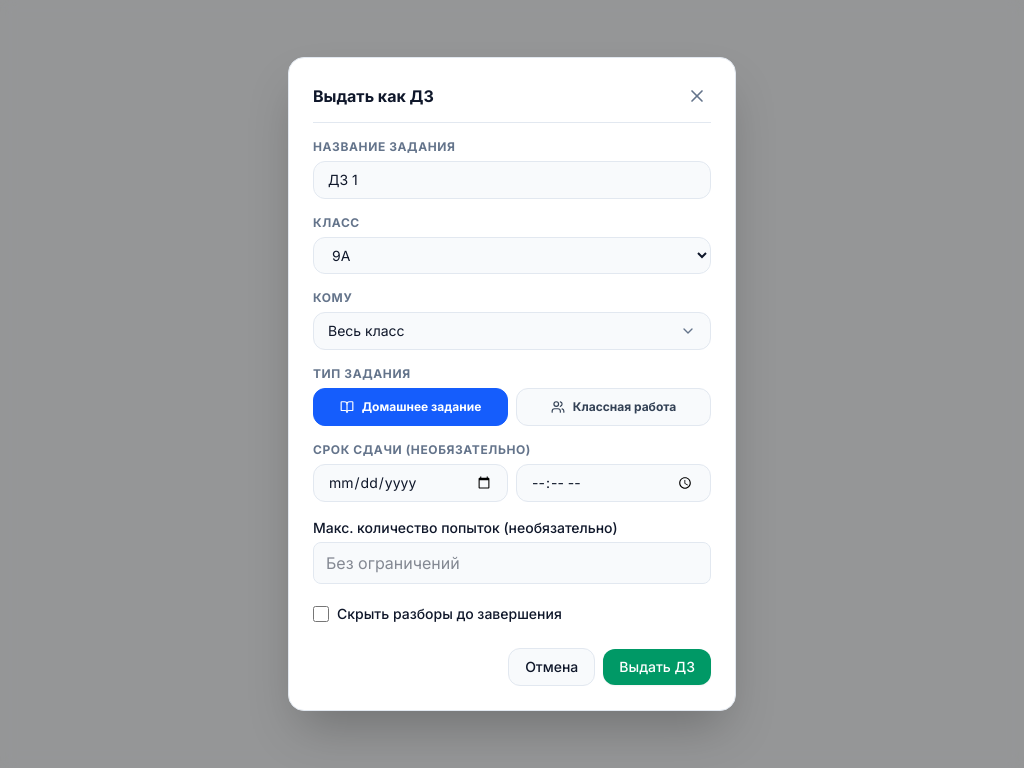
Test: AssignmentCreateModal — выбор получателей («Кому») › поиск фильтрует список по фамилии и имени
Click the button "Весь класс": (366, 330) top-left (313, 312), bottom-right (711, 350)
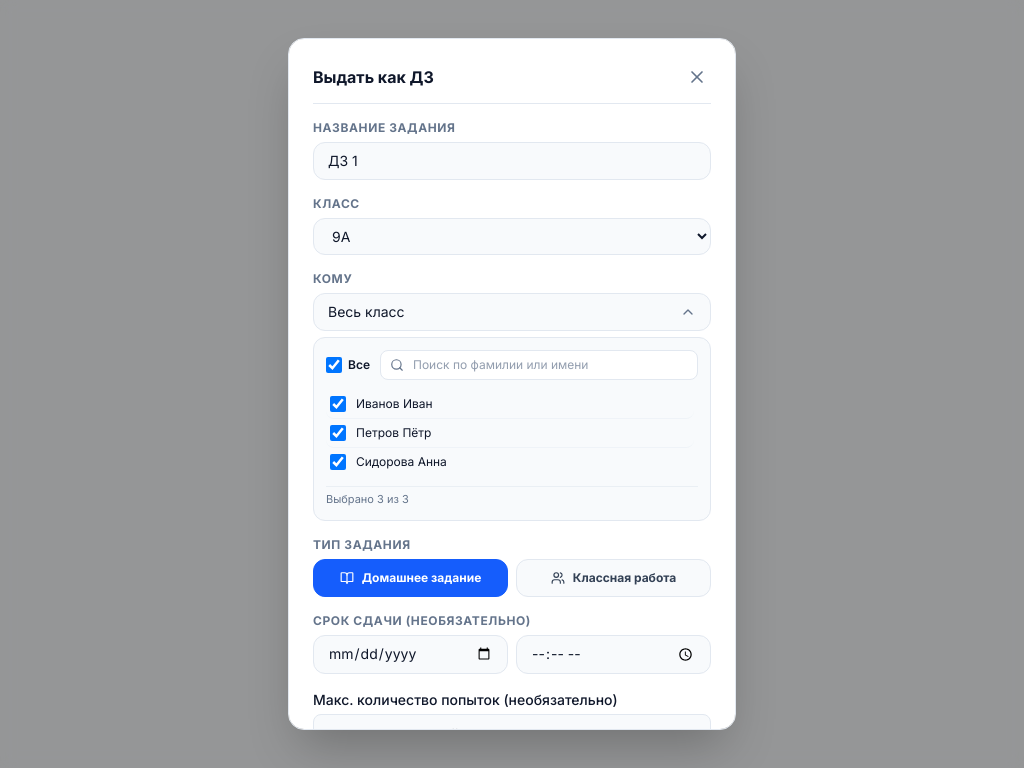
In the field with placeholder "Поиск по фамилии или имени": (539, 365) top-left (380, 350), bottom-right (698, 380), type "анна"
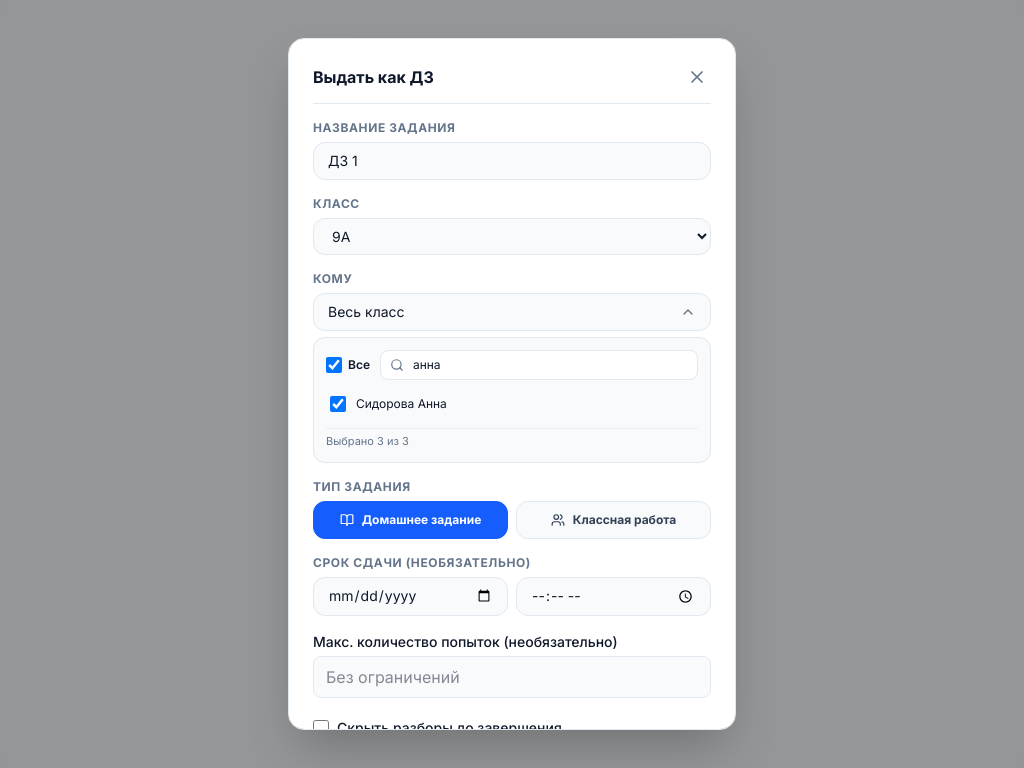
Check: the text "Сидорова Анна" is shown, box top-left (356, 396), bottom-right (447, 412)
Check: the text "Иванов Иван" is gone
Check: the text "Петров Пётр" is gone
Replace the text in the field with placeholder "Поиск по фамилии или имени" next to "Все" with "несуществующий": (539, 365) top-left (380, 350), bottom-right (698, 380)
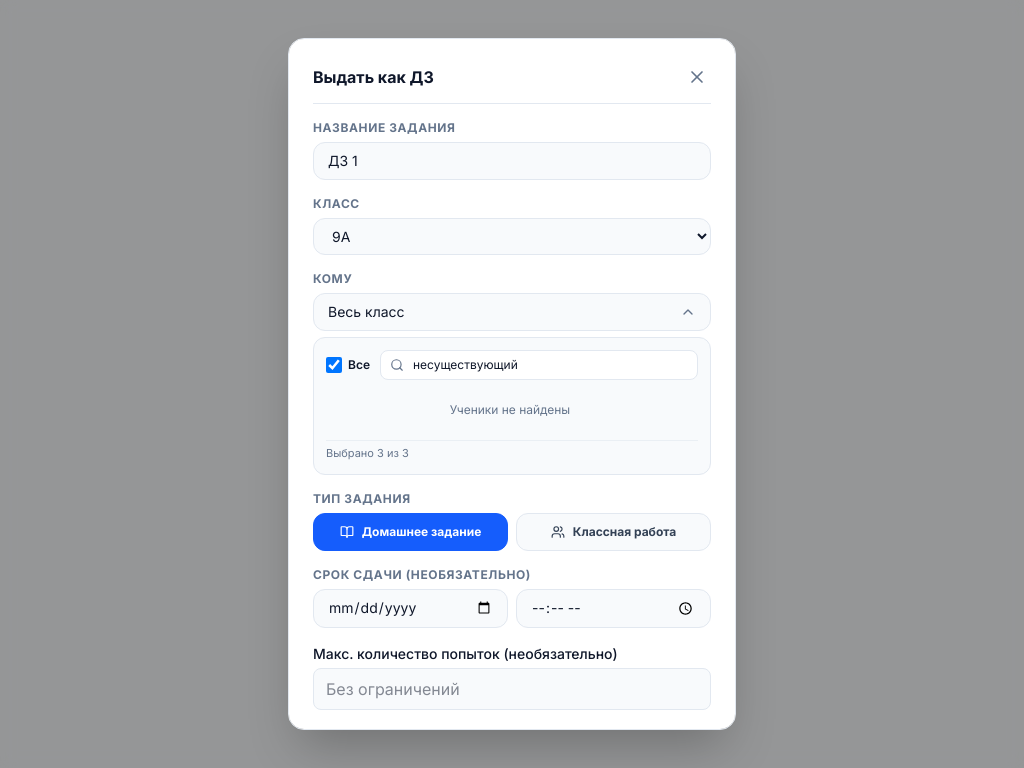
Check: the text "Ученики не найдены" is shown, box top-left (450, 402), bottom-right (570, 417)
